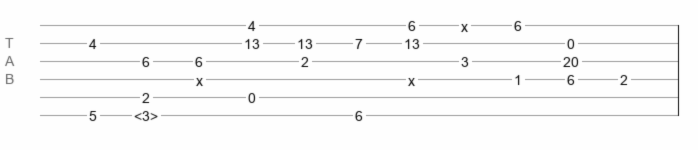0: (248, 90, 256, 100), (567, 36, 575, 46)
1: (514, 72, 522, 82)
13: (244, 36, 260, 46), (297, 36, 313, 46), (404, 36, 420, 46)
2: (142, 90, 150, 100), (301, 54, 309, 64), (620, 72, 628, 82)
20: (563, 54, 579, 64)
3: (461, 54, 469, 64)
4: (89, 36, 97, 46), (248, 18, 256, 28)
5: (89, 108, 97, 118)
6: (142, 54, 150, 64), (195, 54, 203, 64), (355, 108, 363, 118), (408, 18, 416, 28), (514, 18, 522, 28), (567, 72, 575, 82)
7: (355, 36, 363, 46)
harmonic: (134, 108, 158, 118)
x: (196, 73, 203, 81), (408, 73, 415, 81), (461, 19, 468, 27)
